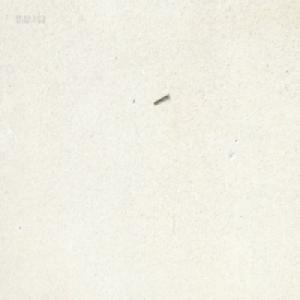Bolt: (152, 91, 168, 103)
